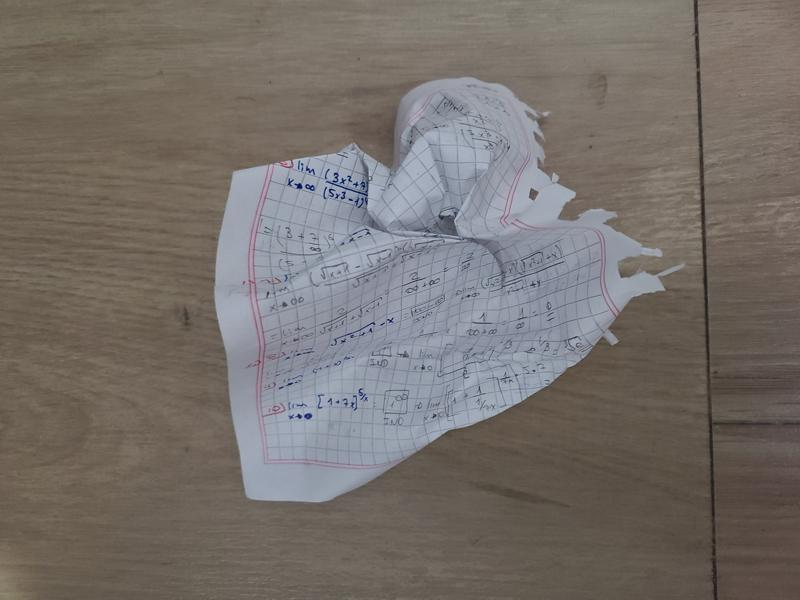papel: (212, 78, 680, 506)
